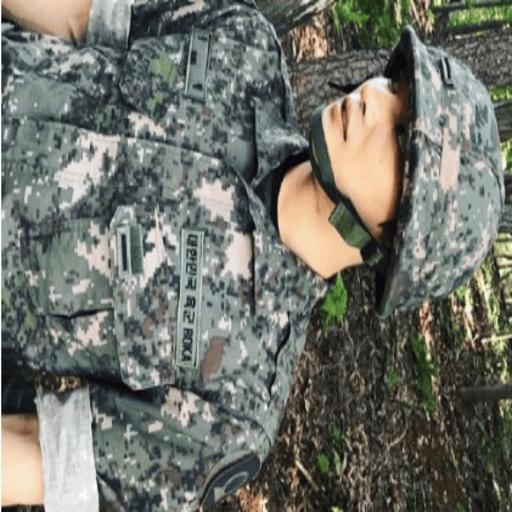korea army: (0, 2, 512, 509)
